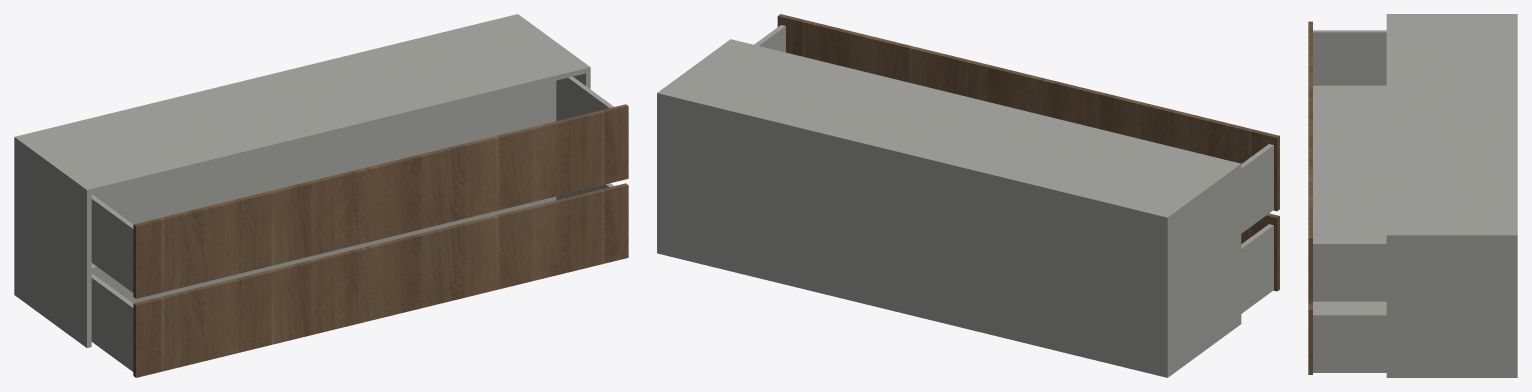
The model's file is meuble_68f871506e40f.glb.
3 views of the same model, side by side, from view 1: azimuth 30°, elevation 25°; view 2: azimuth 150°, elevation 25°; view 3: azimuth 270°, elevation 25° (orthographic). The views are drawn at different scales.
Visible parts, largest first — view 1: world; view 2: world; view 3: world.
Part boxes in pixels (x1=…): world: x1=14, y1=14, x2=628, y2=377; world: x1=657, y1=14, x2=1279, y2=377; world: x1=1308, y1=14, x2=1517, y2=377.
Size of the model in its own units: 2 by 0.6 by 0.8.
Materials: 1 (1 with a texture image).
